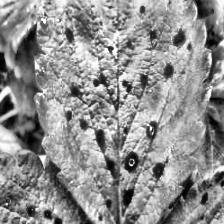Leaf Spot: (32, 0, 214, 224), (0, 149, 123, 224), (122, 163, 224, 224), (0, 0, 44, 53)
